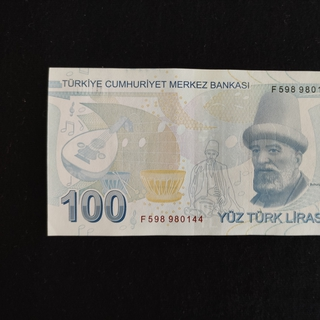100TLBack: (46, 65, 320, 237)
